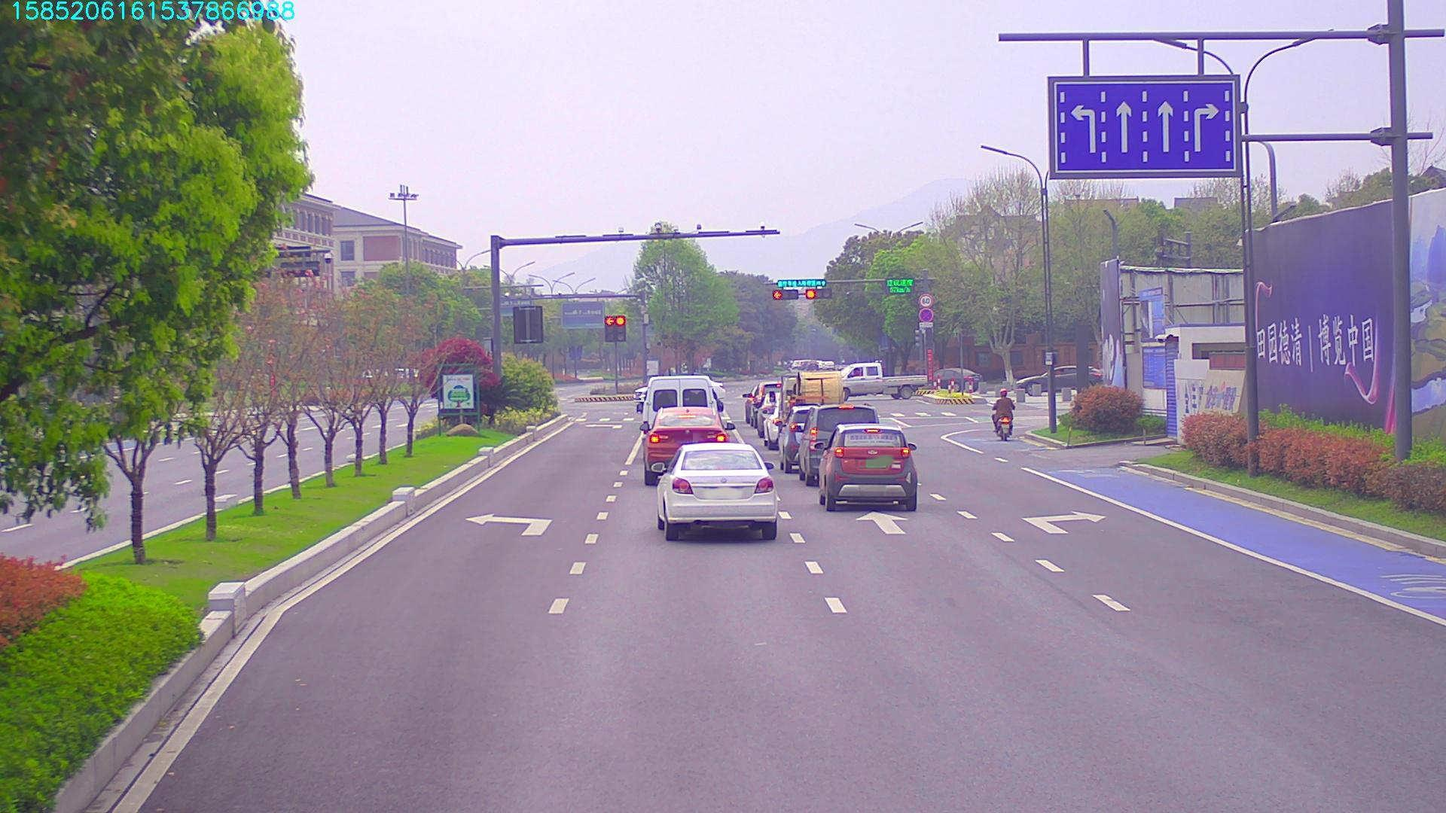red: (800, 286, 831, 302), (770, 286, 799, 297)
wait_on: (777, 278, 830, 288)
